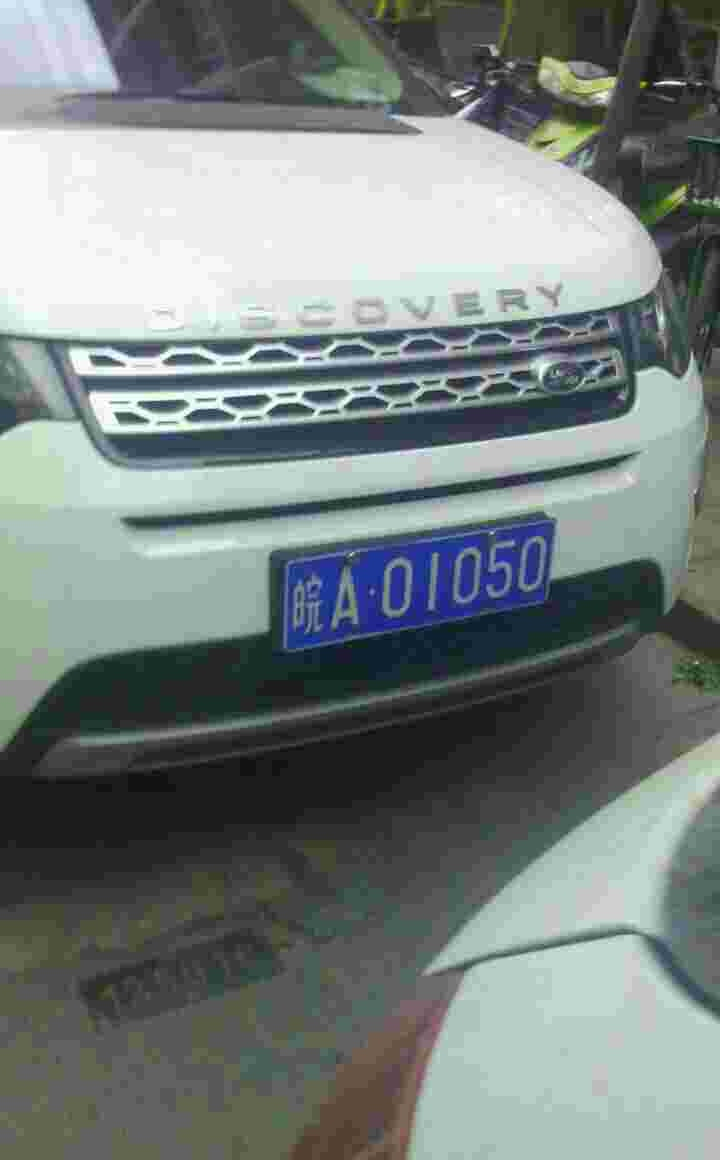license_plate: (278, 512, 574, 652)
